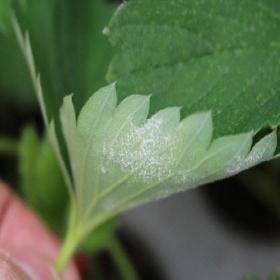Powdery Mildew Leaf: (57, 80, 279, 241)
